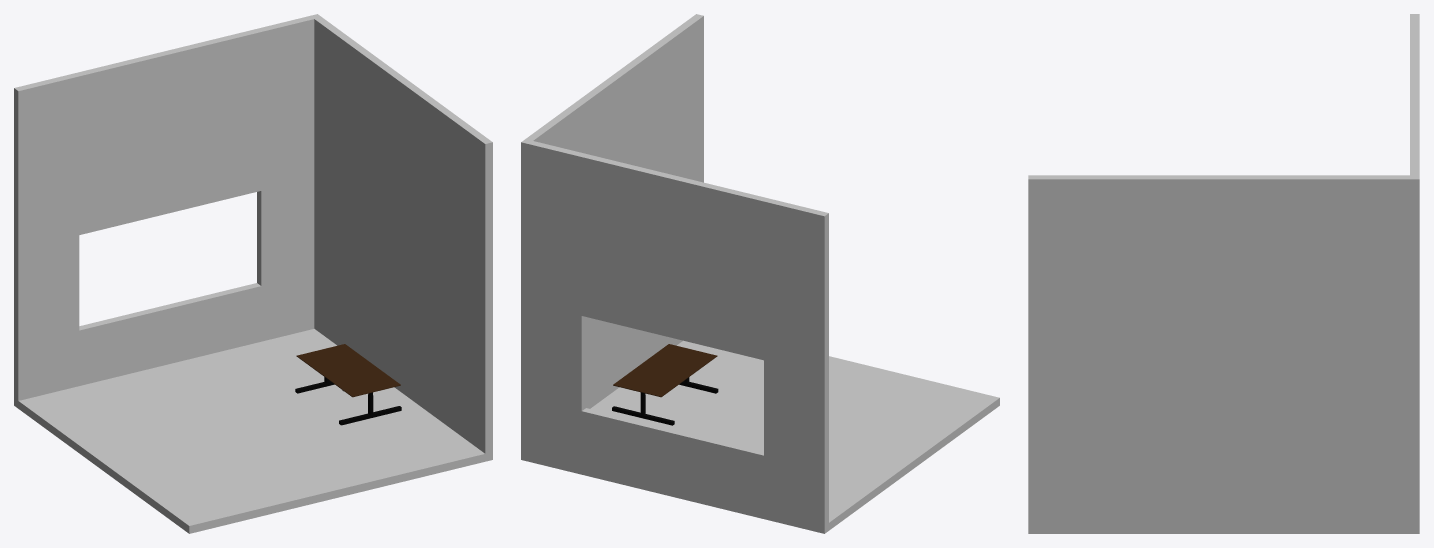
File: MyOffice.obj
The picture shows the model from 3 angles, left to right: view 1: azimuth 30°, elevation 25°; view 2: azimuth 150°, elevation 25°; view 3: azimuth 270°, elevation 25°; orthographic projection. The views are drawn at different scales.
Visible parts, largest first — view 1: Room_Cube.001, Desk_Wood_Plane; view 2: Room_Cube.001, Desk_Wood_Plane; view 3: Room_Cube.001.
Boxes of the visible parts, bbox=[...] form: Room_Cube.001: bbox=[14, 14, 492, 533]; Desk_Wood_Plane: bbox=[296, 344, 400, 397]; Room_Cube.001: bbox=[521, 14, 999, 533]; Desk_Wood_Plane: bbox=[613, 344, 717, 397]; Room_Cube.001: bbox=[1028, 14, 1419, 533].
Size of the model in its own units: 10 by 10 by 10.
